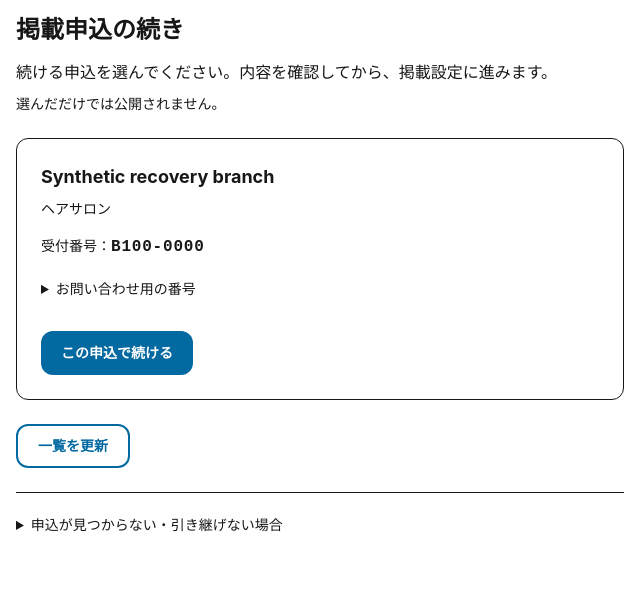
Test: blocked storage never navigates or creates a facility
Expected: the text "Synthetic recovery branch" is shown, [41,166,274,187]
Step 1. Click the button "この申込で続ける" → [117, 353], box [41,331,193,375]
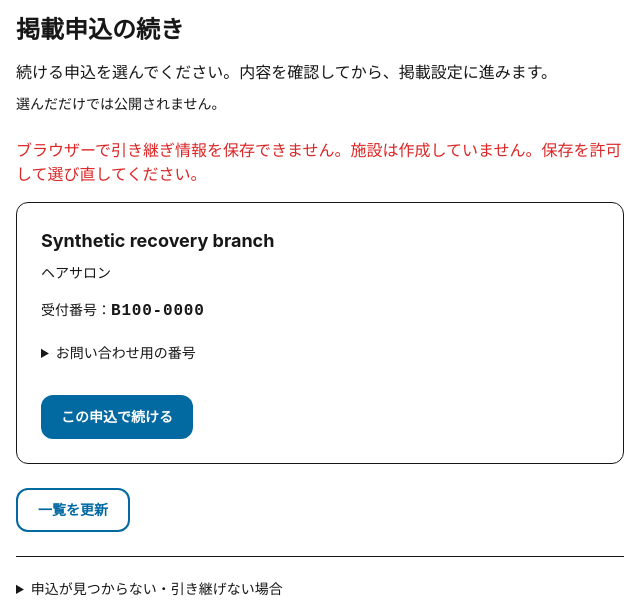
Expected: the message "ブラウザーで引き継ぎ情報を保存できません。施設は作成していません。保存を許可して選び直してください。" is shown, [16,138,624,186]
